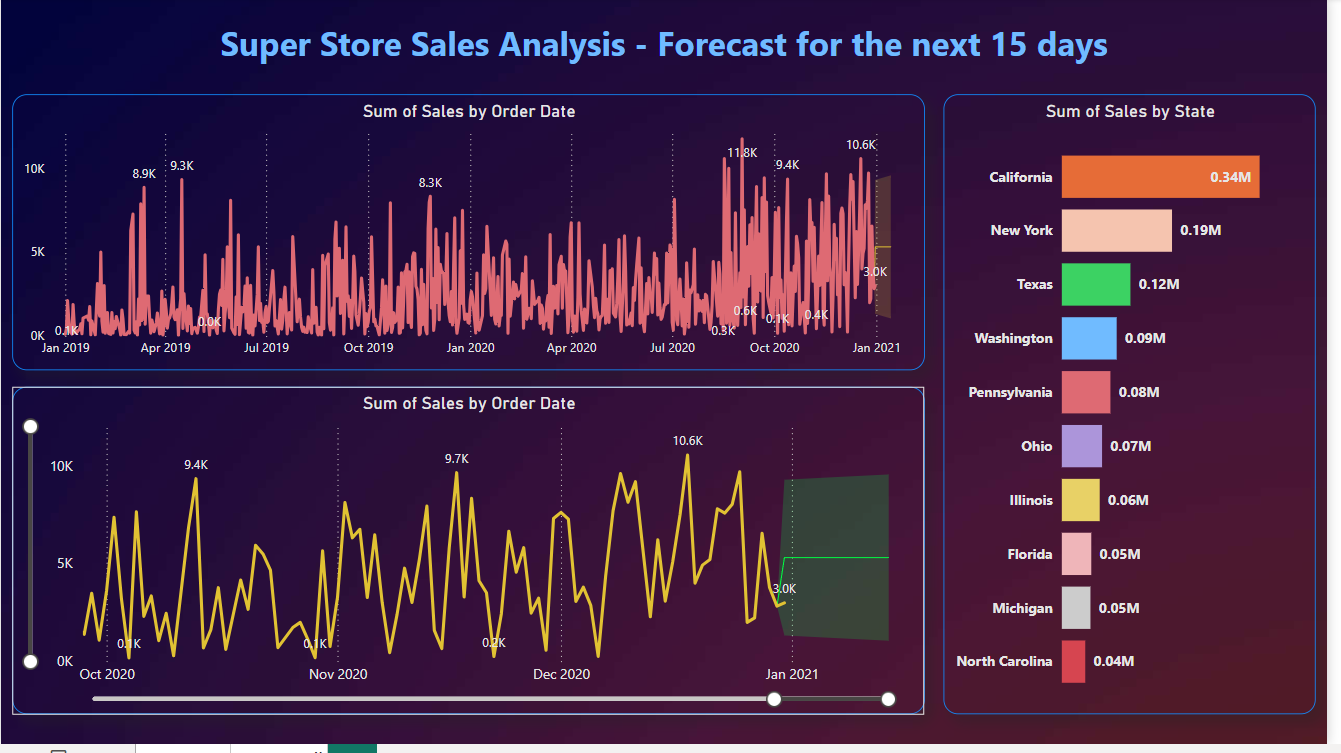

This screenshot's page, from the dashboard's own definition file:
{"tool":"powerbi","page":{"name":"Page 2","canvas":[1280,720],"ordinal":1},"visuals":[{"type":"lineChart","fields":{"Y":["Sum(SuperStore_Sales_Dataset.Sales)"],"Category":["SuperStore_Sales_Dataset.Order Date"]},"box":[10.9,92.9,880.7,266.6],"z":0},{"type":"lineChart","fields":{"Y":["Sum(SuperStore_Sales_Dataset.Sales)"],"Category":["SuperStore_Sales_Dataset.Order Date"]},"box":[10.9,375.2,880.7,316.1],"z":1000},{"type":"barChart","fields":{"Category":["SuperStore_Sales_Dataset.State"],"Y":["Sum(SuperStore_Sales_Dataset.Sales)"]},"box":[909.7,92.9,359.5,598.4],"z":2000},{"type":"textbox","box":[10.9,16.9,1258.3,54.3],"z":3000}]}

Visuals, with their boxes in screenshot pixels (x1, y1, x2, y2), scaled from the page's 1280x720 canvas onto the 1341x753 screenshot:
lineChart - Sum(SuperStore_Sales_Dataset.Sales) x SuperStore_Sales_Dataset.Order Date: crop(11, 97, 934, 376)
lineChart - Sum(SuperStore_Sales_Dataset.Sales) x SuperStore_Sales_Dataset.Order Date: crop(11, 392, 934, 723)
barChart - SuperStore_Sales_Dataset.State x Sum(SuperStore_Sales_Dataset.Sales): crop(953, 97, 1330, 723)
textbox: crop(11, 18, 1330, 74)
